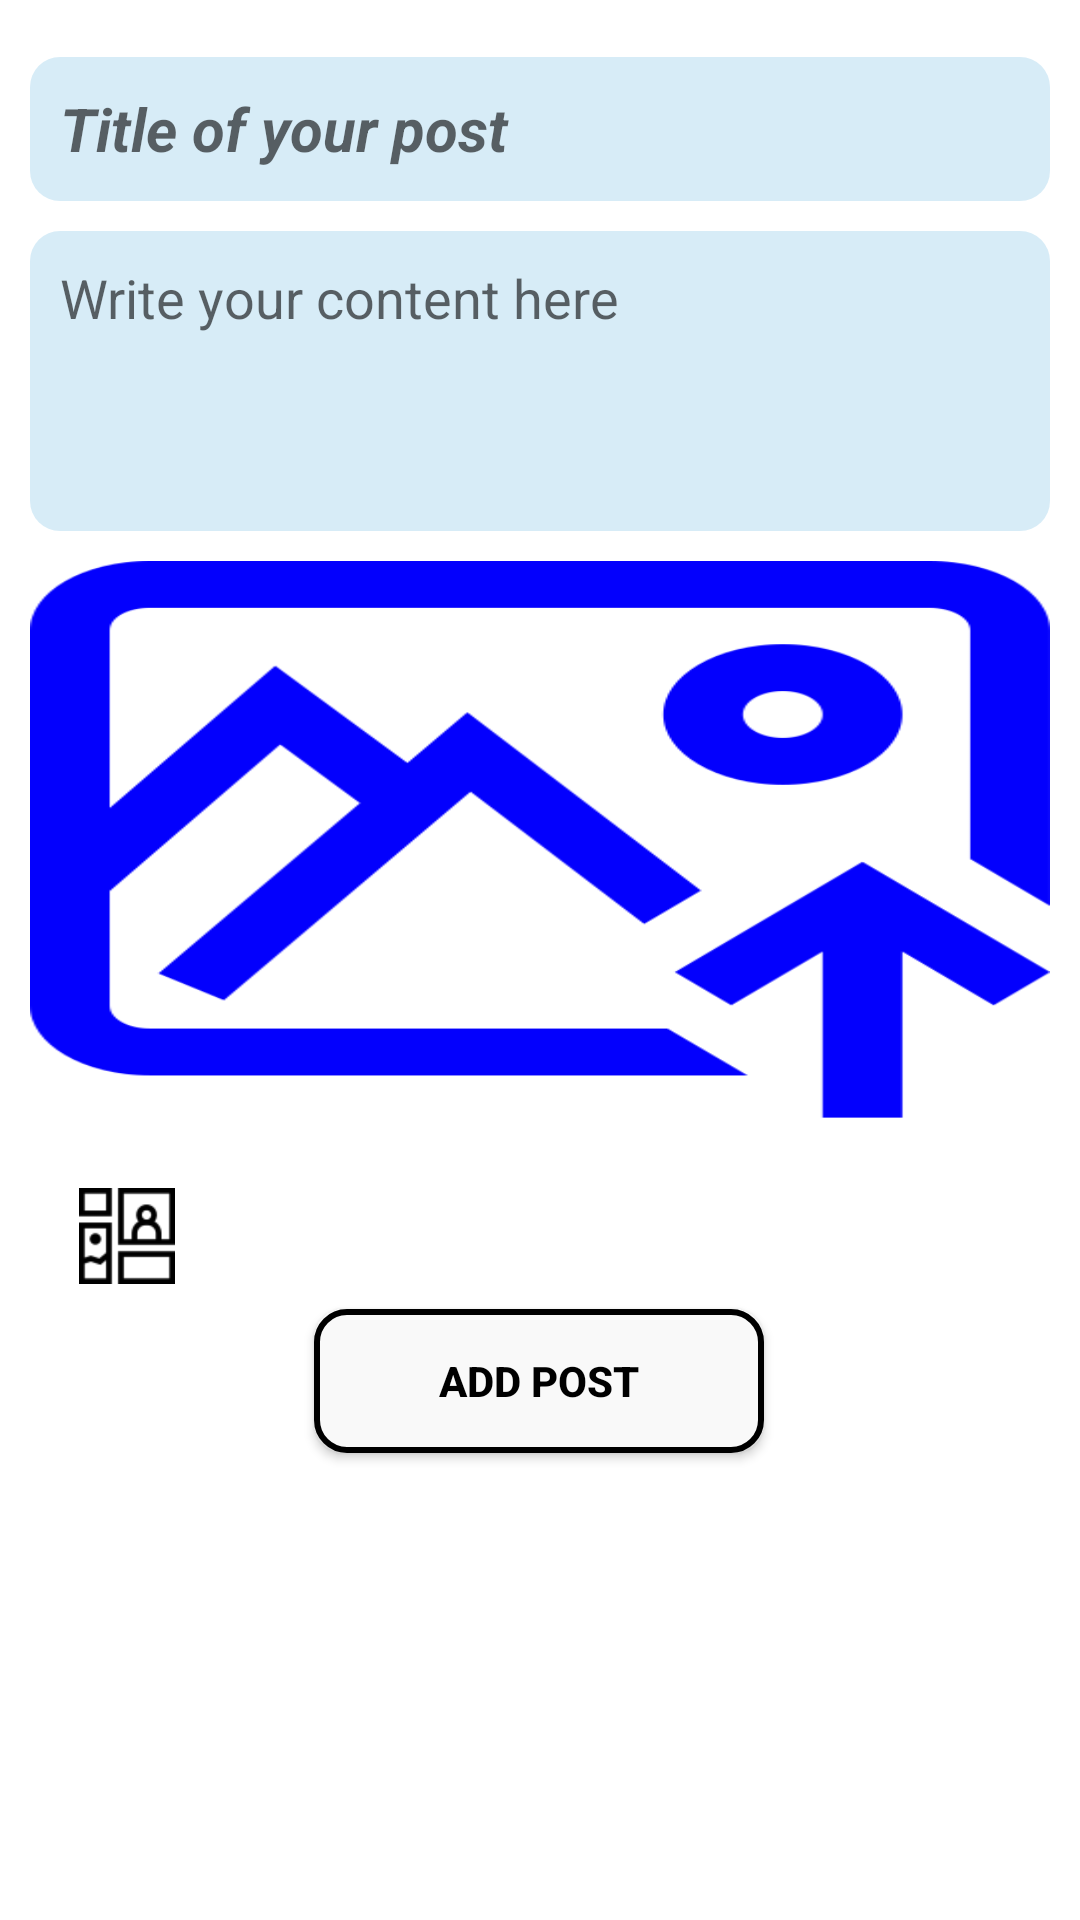

Screen size 1080px x 1920px. Icon name, then its center in pixels as point (x, y):
gallary: point (127, 1236)
